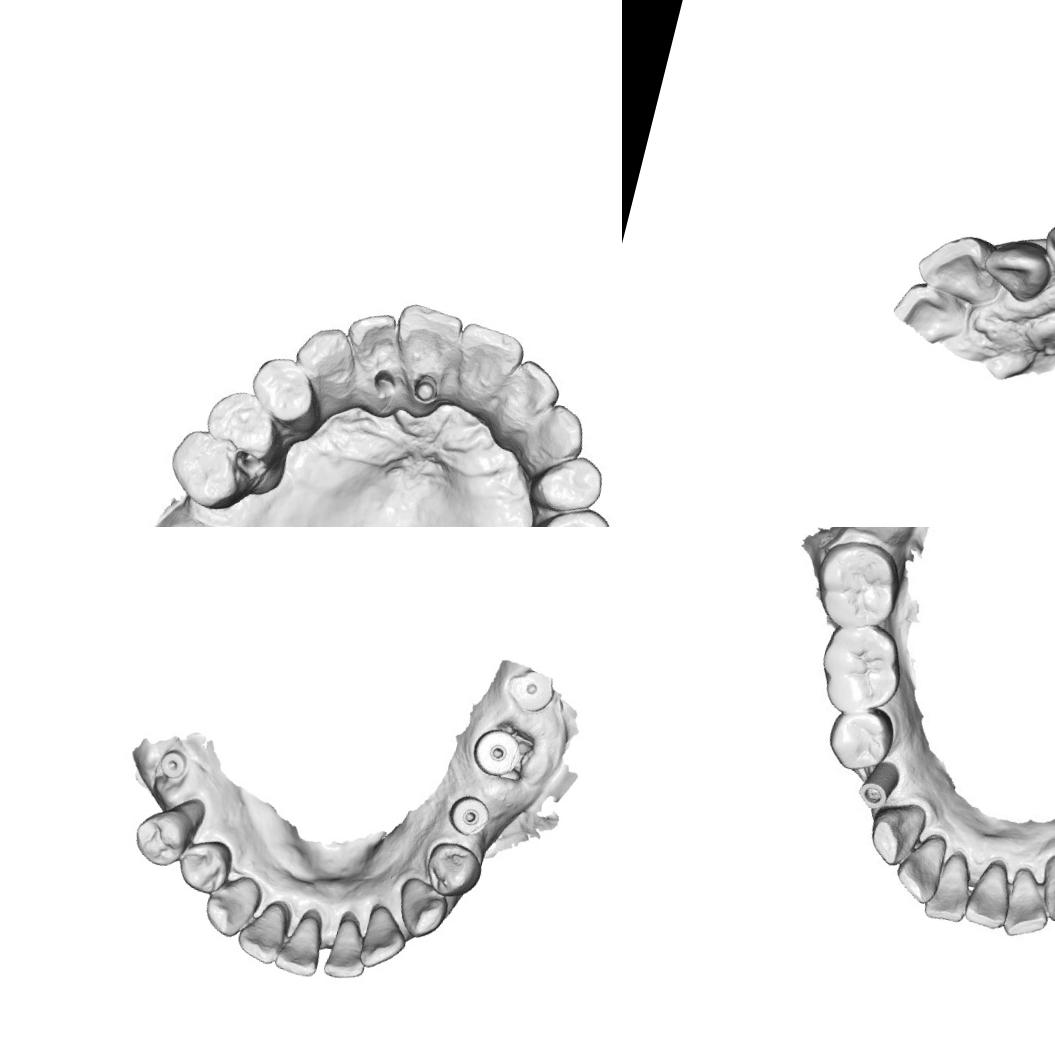canine: (283, 318, 367, 415), (517, 398, 593, 472), (860, 791, 930, 870), (197, 868, 264, 944), (388, 872, 456, 944), (1033, 215, 1055, 307), (1031, 854, 1055, 934)
implant: (498, 660, 560, 720), (467, 724, 525, 782), (852, 758, 906, 816), (442, 790, 494, 842), (153, 746, 192, 784)
incisor: (386, 302, 467, 399), (912, 224, 1002, 310), (336, 308, 412, 400), (448, 323, 520, 408), (494, 352, 560, 434), (980, 232, 1052, 307), (995, 858, 1055, 943), (890, 829, 951, 909), (920, 847, 978, 925), (353, 901, 412, 974), (962, 856, 1016, 932), (269, 909, 326, 978), (319, 914, 375, 984), (232, 902, 290, 966)
molar: (804, 528, 910, 638), (159, 424, 264, 518), (814, 616, 906, 714)
premolar: (194, 381, 285, 470), (241, 348, 327, 432), (524, 448, 612, 526), (824, 696, 899, 774), (126, 799, 198, 872), (418, 836, 487, 905), (173, 831, 238, 899), (524, 493, 620, 527)
